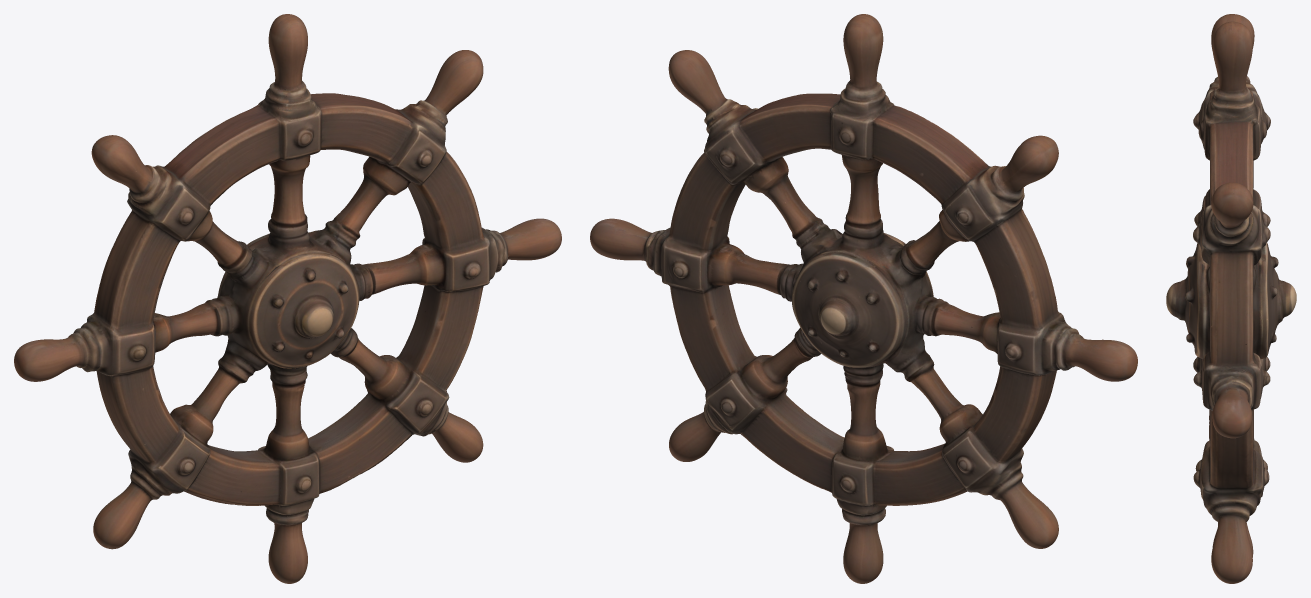
Rendered from helm-test-1.glb.
3 views of the same model, side by side, from view 1: azimuth 30°, elevation 25°; view 2: azimuth 150°, elevation 25°; view 3: azimuth 270°, elevation 25° (orthographic). The views are drawn at different scales.
Parts seen in each view (by area): view 1: Mesh_0.002; view 2: Mesh_0.002; view 3: Mesh_0.002.
Boxes of the visible parts, box(x1,y1,x2,y2) form: Mesh_0.002: box(14, 14, 561, 583); Mesh_0.002: box(590, 14, 1137, 583); Mesh_0.002: box(1166, 14, 1296, 583).
Size of the model in its own units: 2 by 2 by 0.429.
1 material, 1 textured.
